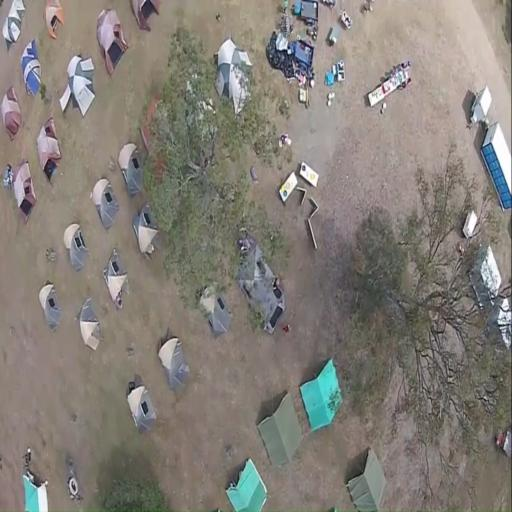Tent: (341, 440, 390, 512), (220, 449, 272, 512), (122, 368, 163, 440), (154, 329, 195, 400), (100, 243, 136, 318), (34, 112, 65, 191), (88, 169, 123, 238), (8, 152, 39, 228), (59, 215, 95, 280), (129, 197, 161, 260), (36, 276, 66, 338), (75, 294, 104, 356)
